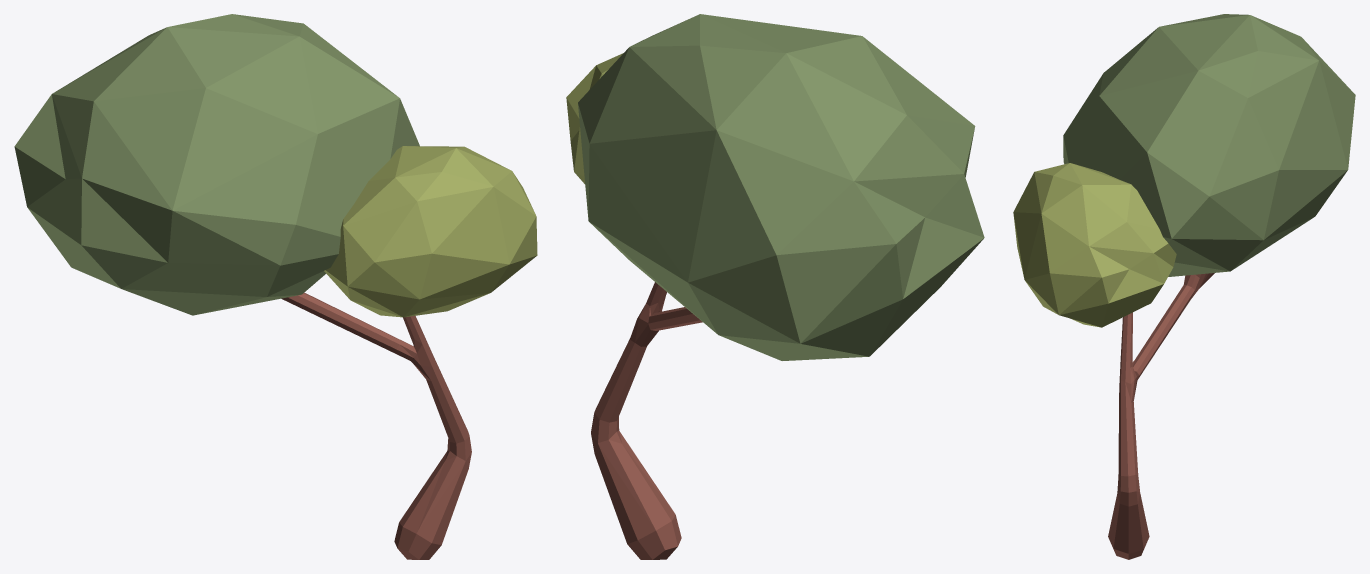
The model's file is tree9.fbx.
The picture shows the model from 3 angles, left to right: view 1: azimuth 30°, elevation 25°; view 2: azimuth 150°, elevation 25°; view 3: azimuth 270°, elevation 25°; orthographic projection. The views are drawn at different scales.
Visible parts, largest first — view 1: Sphere.020; view 2: Sphere.020; view 3: Sphere.020.
Boxes of the visible parts, x1=… form: Sphere.020: x1=14, y1=14, x2=537, y2=559; Sphere.020: x1=566, y1=14, x2=984, y2=559; Sphere.020: x1=1013, y1=14, x2=1355, y2=559.
Size of the model in its own units: 565 by 712 by 476.
Materials: 1 (1 with a texture image).
